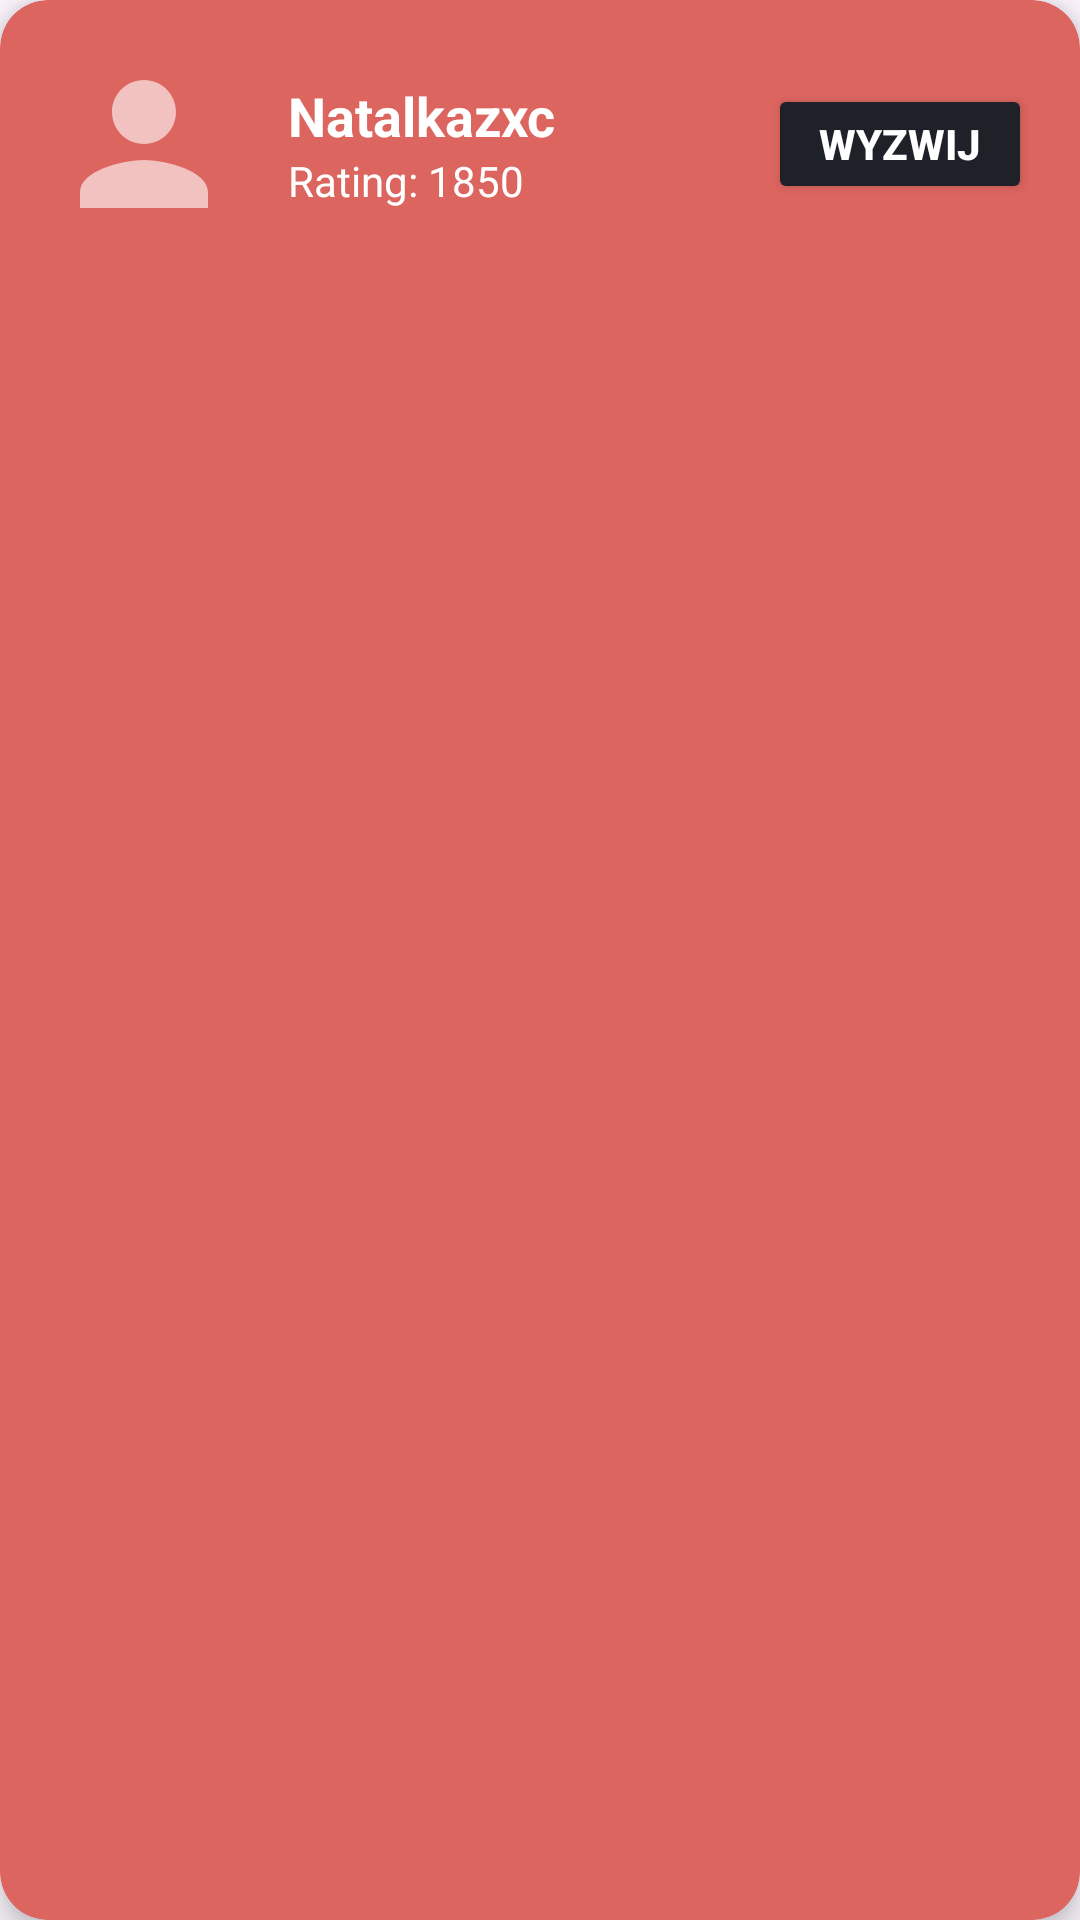

Named icons in this screenshot (1080*1920) and their centers, [x,y]:
person: [144,144]
